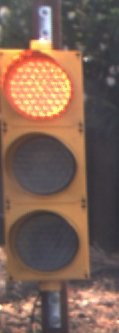Red: (2, 39, 99, 310)
